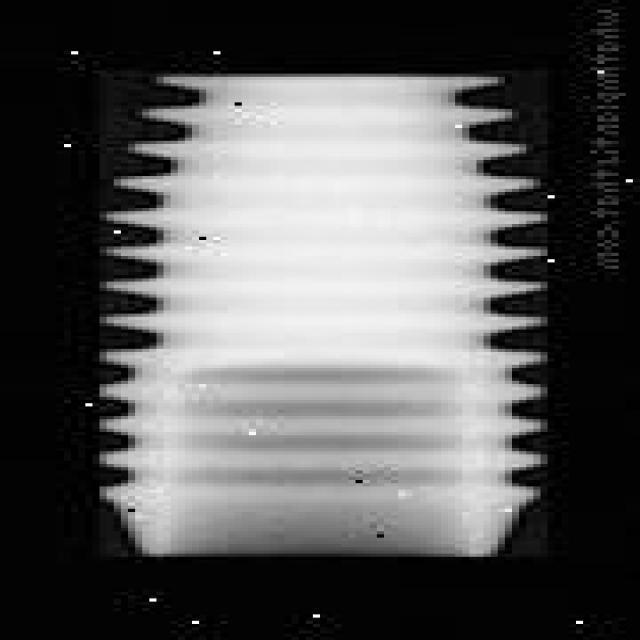OsseoLink Implant: (98, 66, 550, 558)
